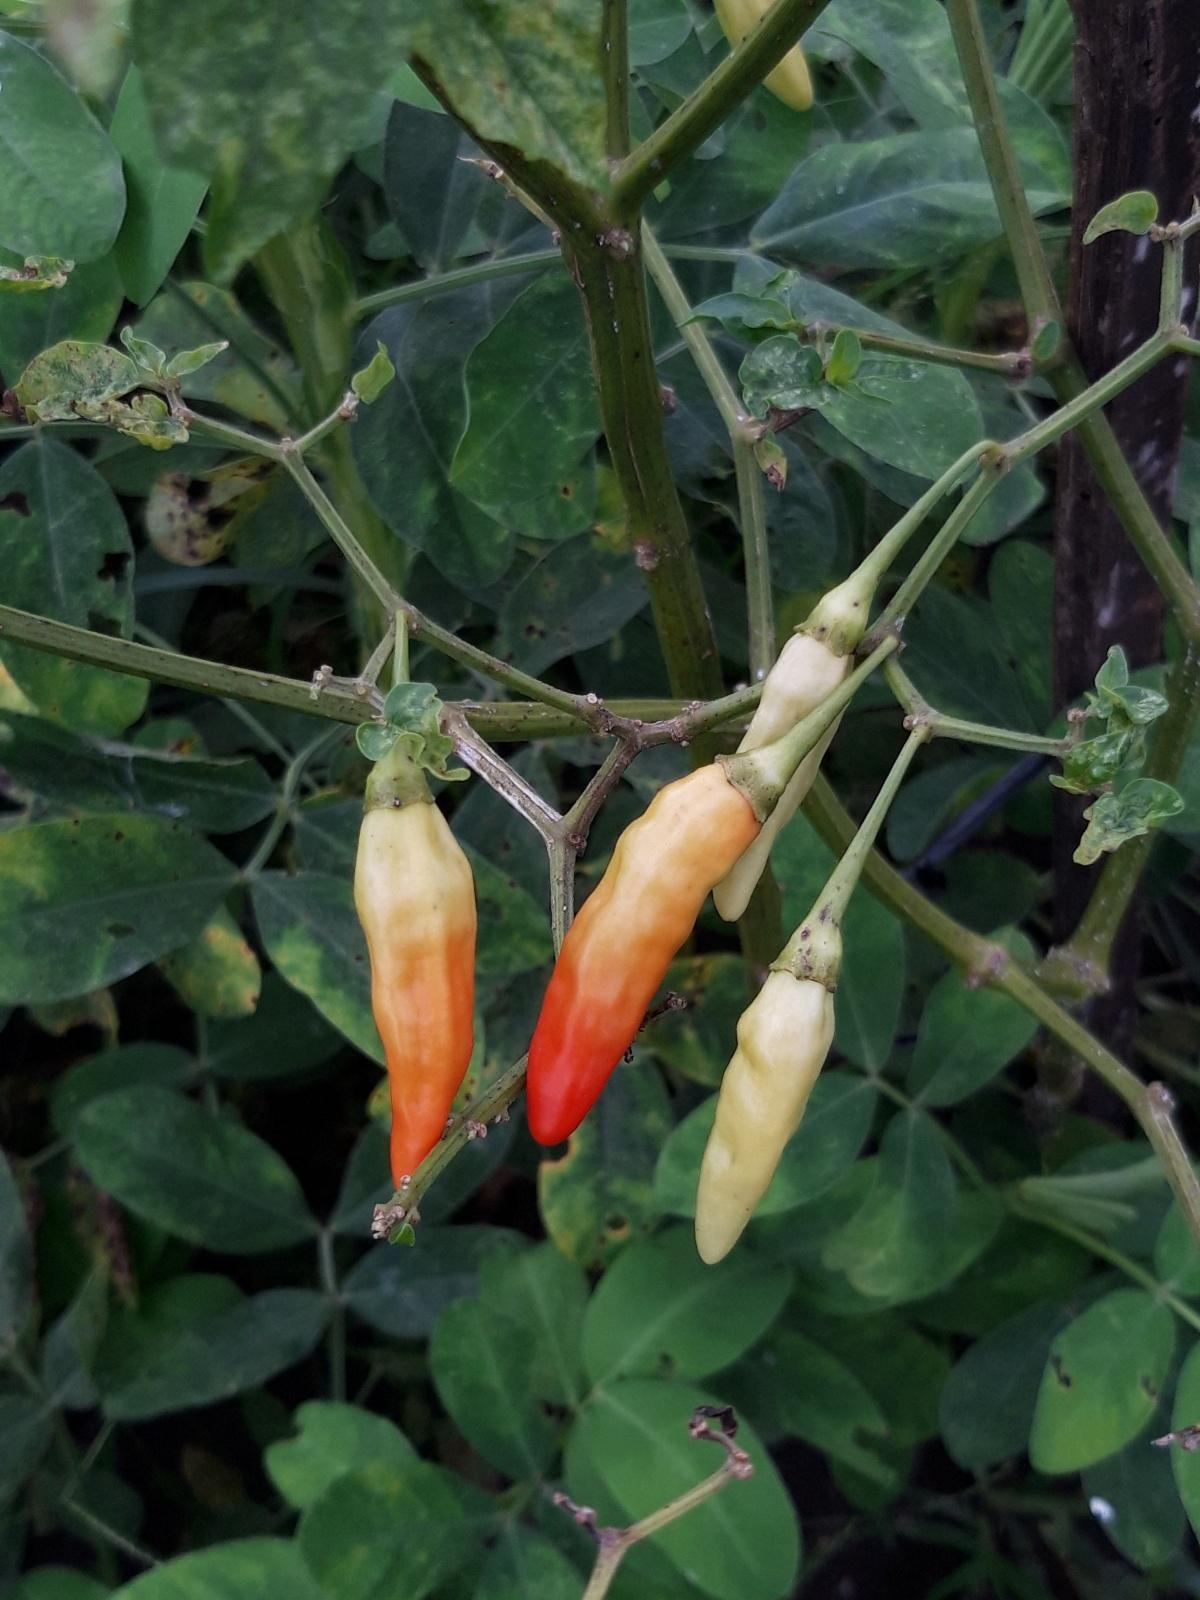cabai_normal: (526, 763, 766, 1146), (353, 805, 476, 1191), (711, 625, 856, 923), (693, 971, 837, 1265)
